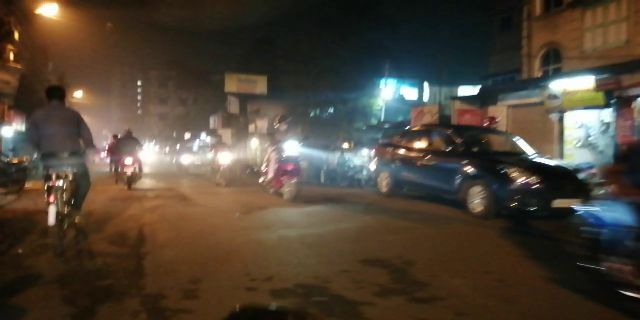Car: (374, 116, 574, 219)
Cycle: (24, 84, 87, 250)
Motorbike: (108, 125, 144, 188)
